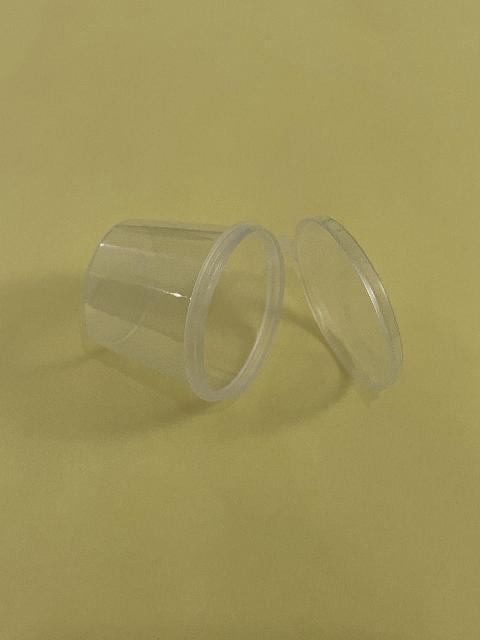plasticcontainer: (80, 213, 406, 409)
